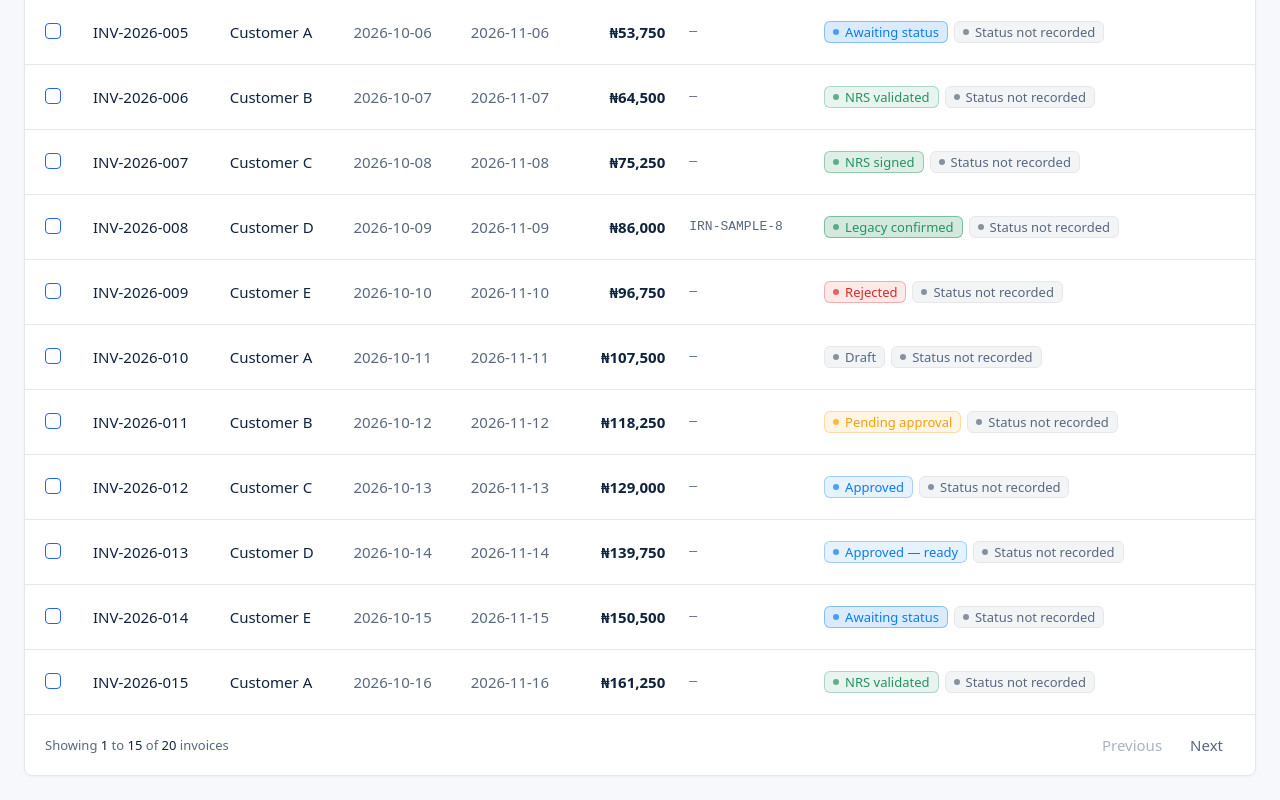
Test: Invoices Page Workflow › 2. Client-side pagination › wires Next and Previous controls with boundary disabling
(page scrolled)
Click the button "Next": [1207, 744] box [1178, 726, 1235, 762]
(page scrolled)
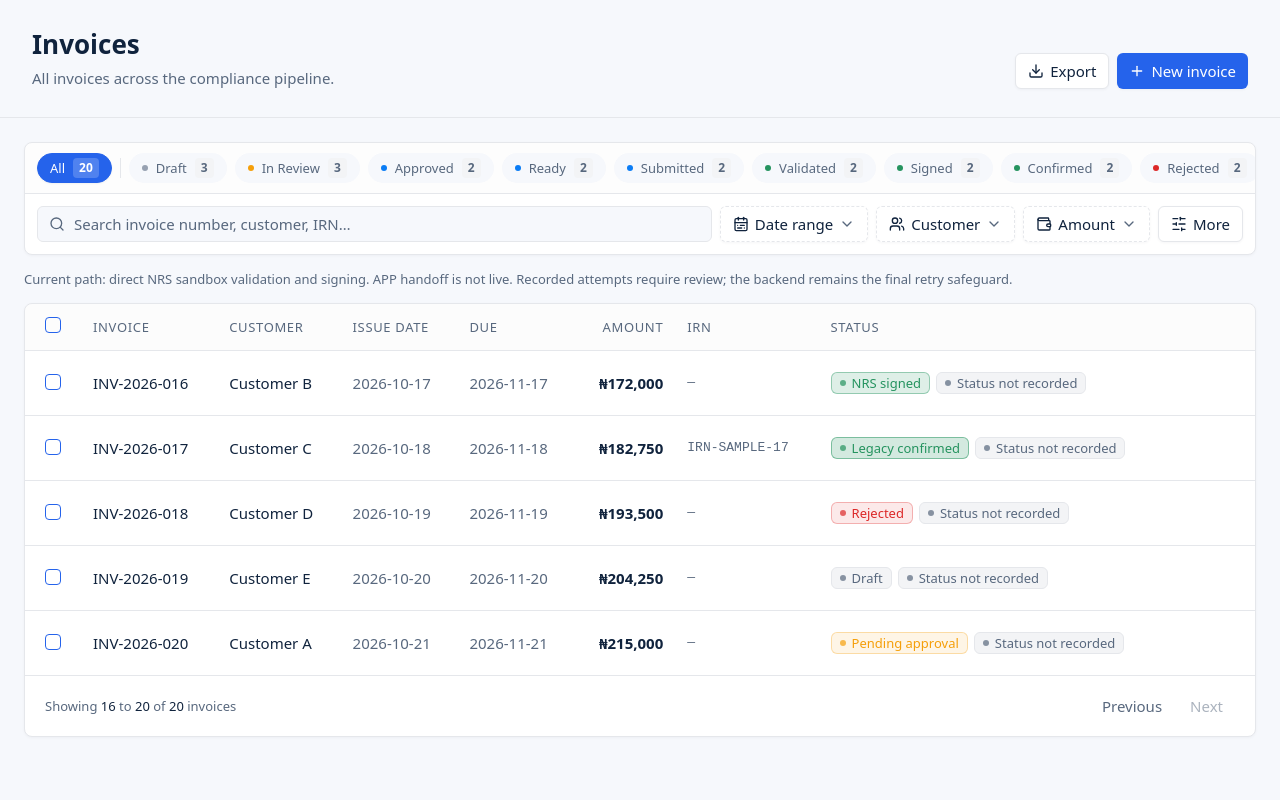
Expected: the link "INV-2026-015" is gone
Expected: the link "INV-2026-016" is shown, [93, 372, 188, 392]
Expected: the link "INV-2026-020" is shown, [93, 632, 188, 652]
Click the button "Previous": [1132, 706] box [1090, 688, 1174, 724]
(page scrolled)
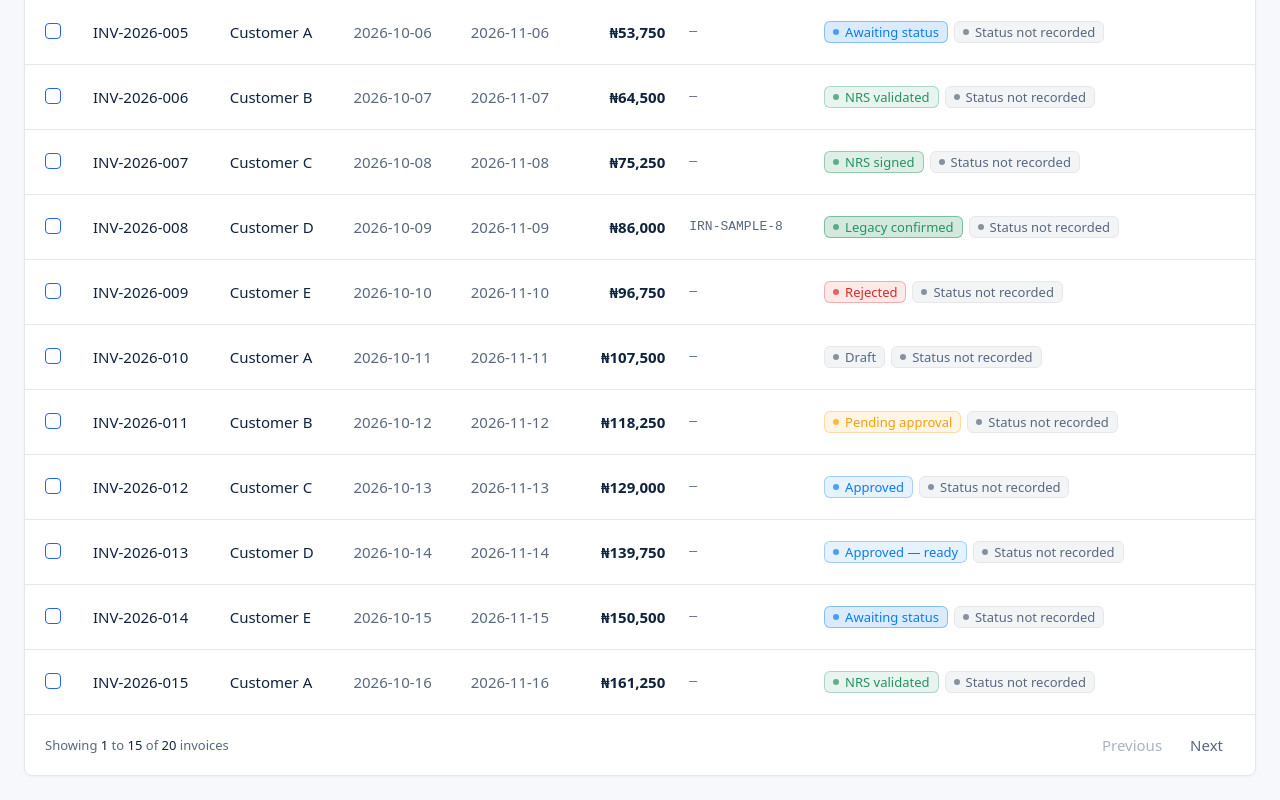
Expected: the button "Previous" is disabled, [1090, 726, 1174, 762]
Expected: the button "Next" is enabled, [1178, 726, 1235, 762]
